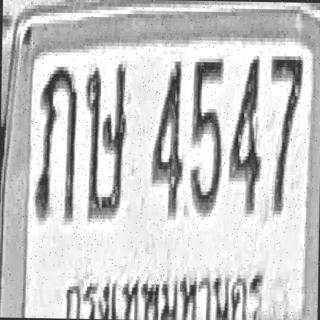A32: (35, 62, 77, 222)
A39: (83, 60, 127, 219)
N04: (228, 52, 262, 214), (150, 57, 184, 216)
N05: (189, 54, 224, 213)
N07: (268, 52, 302, 215)
